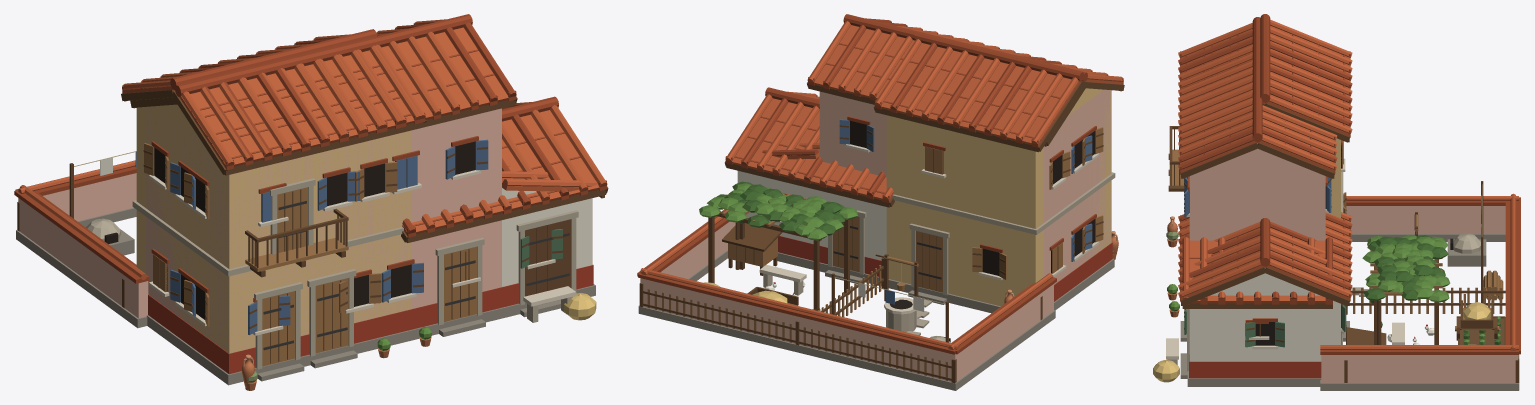
Rendered from Stadthaus.fbx.
3 views of the same model, side by side, from view 1: azimuth 30°, elevation 25°; view 2: azimuth 150°, elevation 25°; view 3: azimuth 270°, elevation 25° (orthographic). The views are drawn at different scales.
Visible parts, largest first — view 1: Stadthaus_1, Stadthaus_0; view 2: Stadthaus_0, Stadthaus_1; view 3: Stadthaus_0, Stadthaus_1.
Part boxes in pixels (<box>): Stadthaus_1: <box>14,14,604,390</box>; Stadthaus_0: <box>17,29,608,390</box>; Stadthaus_0: <box>639,32,1123,383</box>; Stadthaus_1: <box>637,14,1124,390</box>; Stadthaus_0: <box>1166,14,1519,386</box>; Stadthaus_1: <box>1153,17,1520,390</box>.
Bounding box in the file's own units: 3.65 × 2.53 × 3.65.
